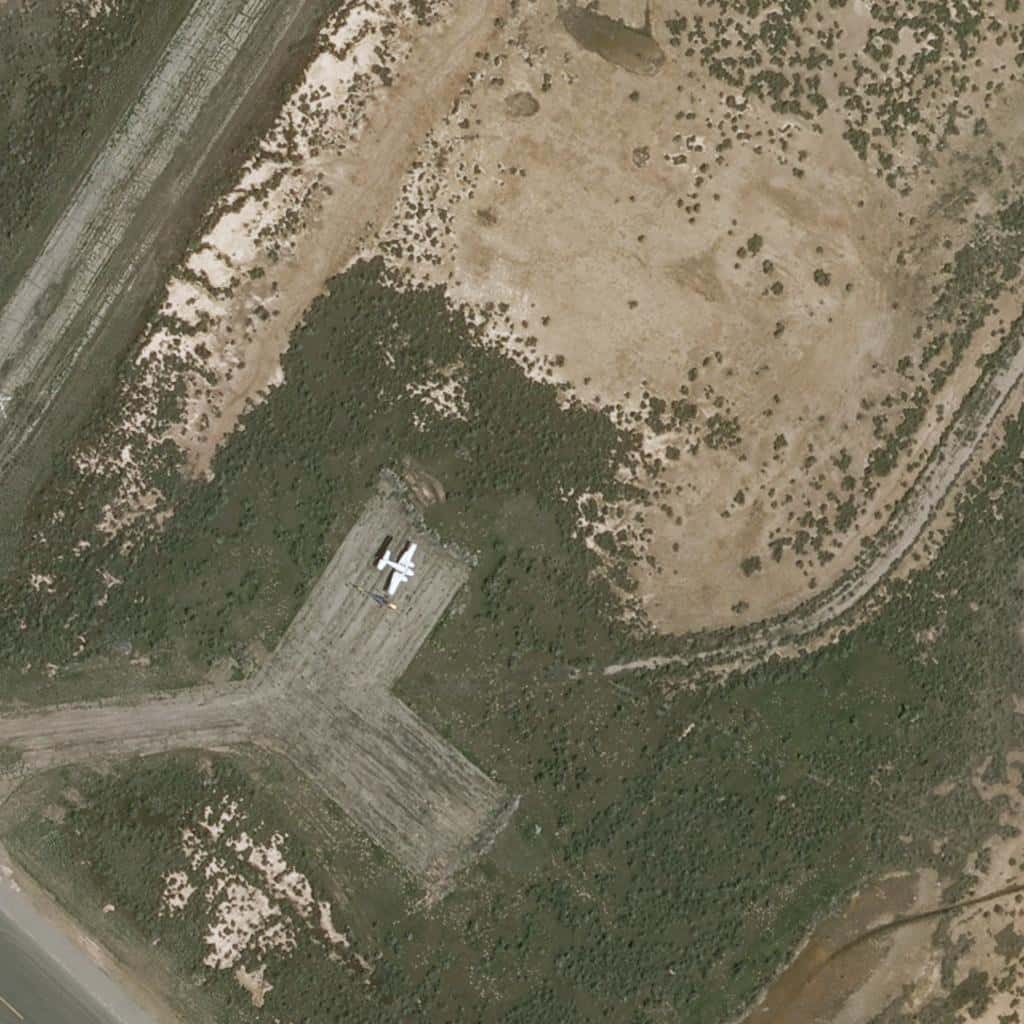plane: (371, 539, 417, 603)
